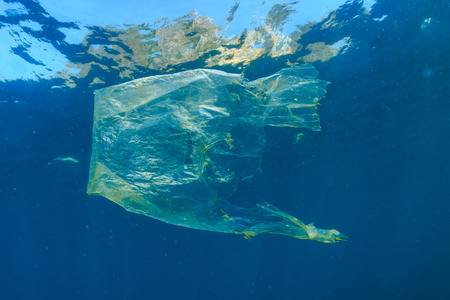litter: (67, 63, 382, 266)
